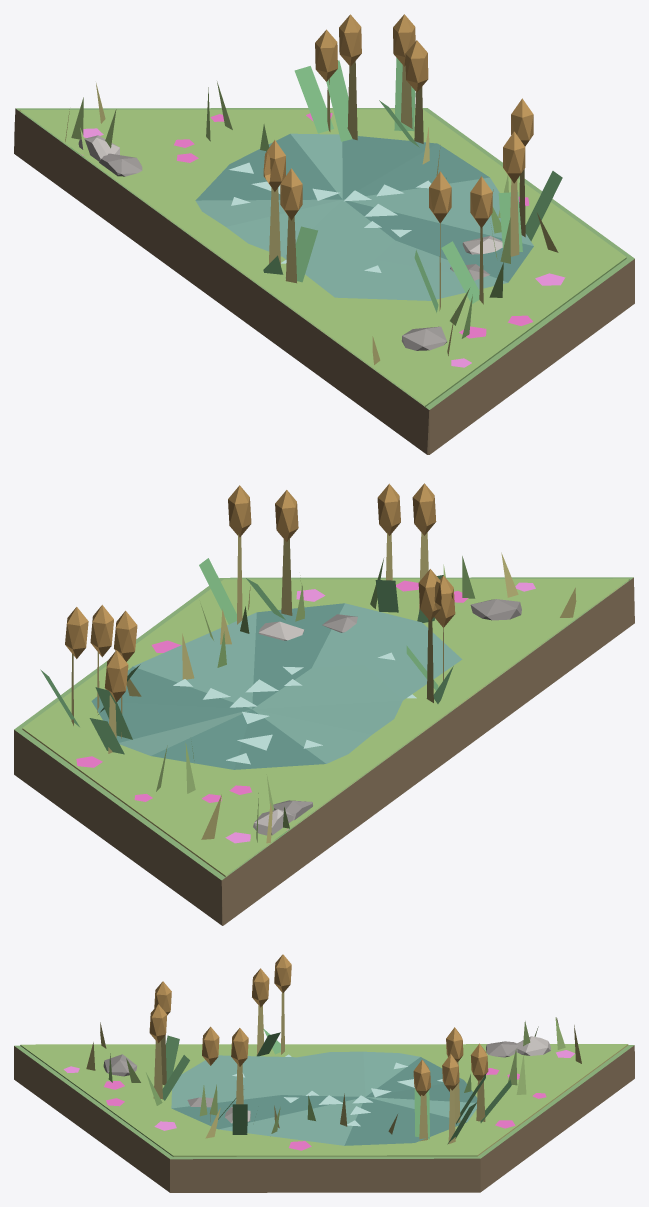
The model's file is wetland_half_sprint3.glb.
3 renders of one model, top to bottom at view 1: azimuth 30°, elevation 25°; view 2: azimuth 150°, elevation 25°; view 3: azimuth 270°, elevation 25°, orthographic. The views are drawn at different scales.
Parts seen in each view (by area): view 1: GrassTerrain, HexBase, WaterPool, Reed_Leaf.003, Reed_Leaf.002, Reed_Head.001, Reed_Head.002, Reed_Head.003, Stone_27, Reed_Leaf.008, Reed_Leaf.004, Reed_Head.006 (+14 smaller); view 2: GrassTerrain, WaterPool, HexBase, Reed_Head.005, Reed_Head.009, Reed_Head.004, Reed_Head.008, Reed_Head.007, Stone_27, Reed_Head, Reed_Head.001, Reed_Head.003 (+6 smaller); view 3: HexBase, GrassTerrain, WaterPool, Reed_Head.008, Reed_Head.009, Reed_Head.004, Reed_Head.007, Reed_Head.006, Stone_20, Reed_Leaf.008, Reed_Head, Stone_27 (+10 smaller).
Boxes of the visible parts, bbox=[...] form: GrassTerrain: bbox=[19, 109, 626, 406]; HexBase: bbox=[14, 108, 634, 454]; WaterPool: bbox=[195, 133, 533, 300]; Reed_Leaf.003: bbox=[294, 66, 333, 133]; Reed_Leaf.002: bbox=[326, 60, 358, 141]; Reed_Head.001: bbox=[405, 40, 428, 92]; Reed_Head.002: bbox=[339, 14, 361, 66]; Reed_Head.003: bbox=[315, 29, 337, 81]; Stone_27: bbox=[401, 326, 446, 350]; Reed_Leaf.008: bbox=[525, 171, 562, 241]; Reed_Leaf.004: bbox=[441, 241, 479, 303]; Reed_Head.006: bbox=[280, 168, 302, 220]; GrassTerrain: bbox=[22, 578, 629, 876]; WaterPool: bbox=[91, 603, 462, 769]; HexBase: bbox=[14, 577, 634, 925]; Reed_Head.005: bbox=[412, 483, 436, 535]; Reed_Head.009: bbox=[275, 490, 298, 541]; Reed_Head.004: bbox=[377, 483, 400, 535]; Reed_Head.008: bbox=[228, 485, 251, 537]; Reed_Head.007: bbox=[418, 569, 441, 621]; Stone_27: bbox=[470, 599, 521, 620]; Reed_Head: bbox=[65, 607, 88, 658]; Reed_Head.001: bbox=[90, 605, 113, 657]; Reed_Head.003: bbox=[104, 650, 128, 702]; HexBase: bbox=[14, 1045, 634, 1192]; GrassTerrain: bbox=[20, 1044, 628, 1156]; WaterPool: bbox=[171, 1051, 477, 1145]; Reed_Head.008: bbox=[231, 1028, 248, 1066]; Reed_Head.009: bbox=[202, 1026, 219, 1065]; Reed_Head.004: bbox=[149, 1004, 167, 1043]; Reed_Head.007: bbox=[274, 954, 291, 992]; Reed_Head.006: bbox=[252, 968, 269, 1007]; Stone_20: bbox=[516, 1036, 550, 1055]; Reed_Leaf.008: bbox=[232, 1104, 247, 1134]; Reed_Head: bbox=[442, 1054, 459, 1091]; Stone_27: bbox=[103, 1054, 136, 1076].
Bounding box in the file's own units: 2.18 × 1.25 × 5.
